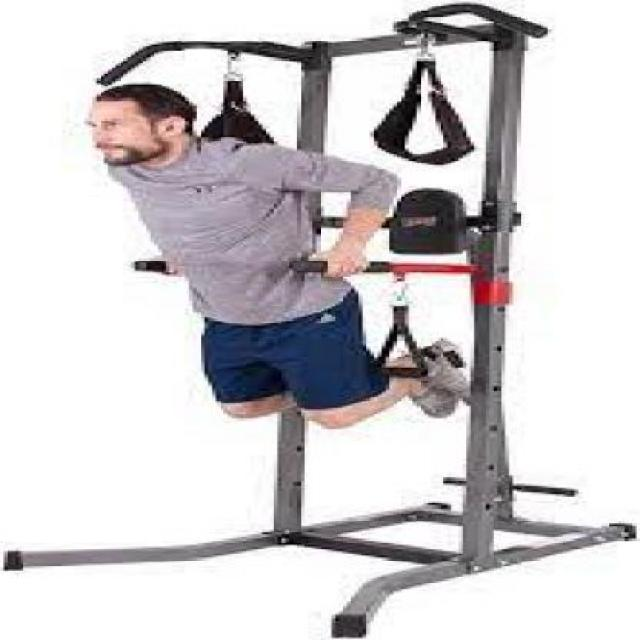chinning dipping: (18, 7, 630, 636)
